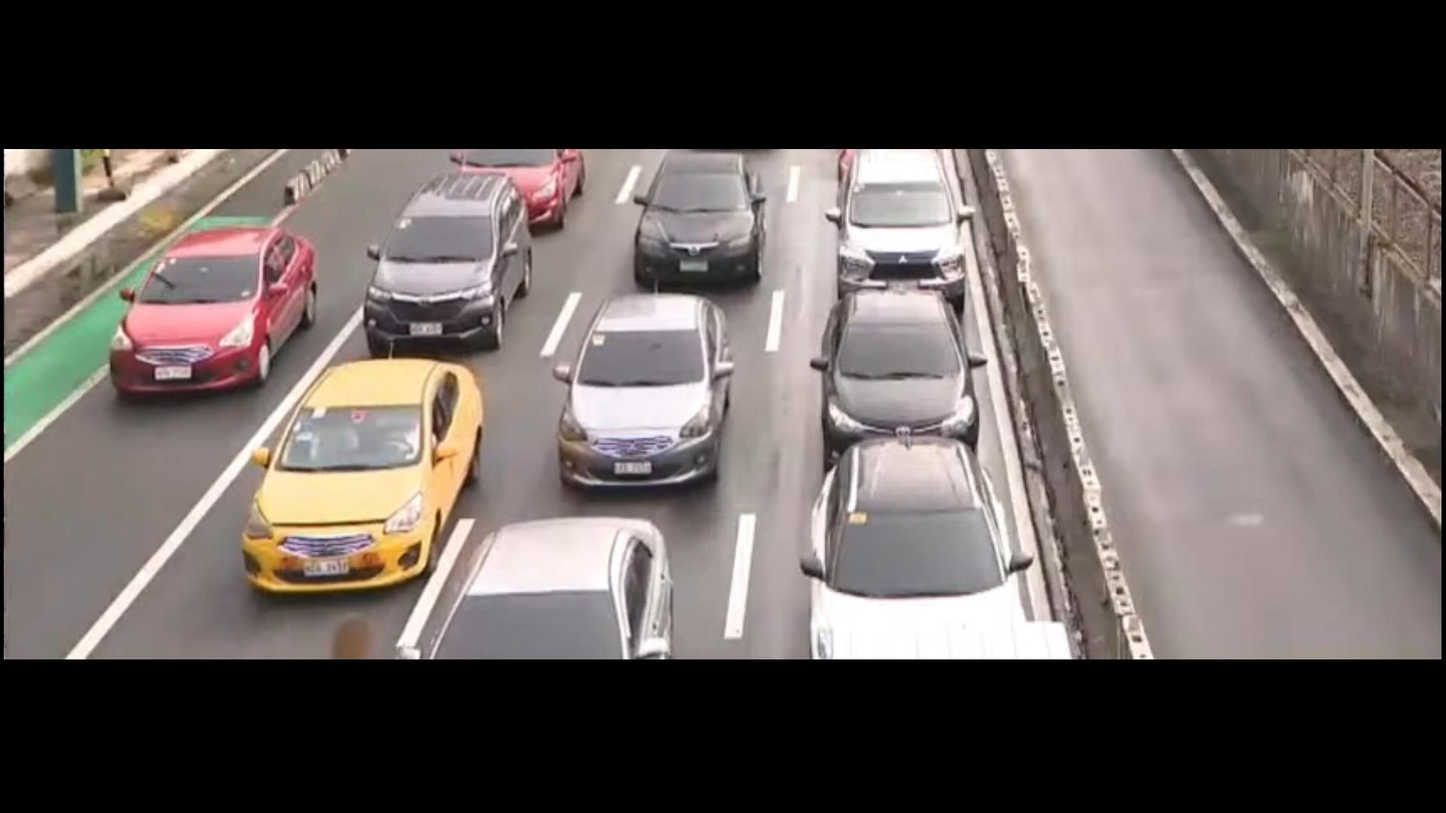SUV: (804, 422, 1051, 667), (350, 158, 561, 357), (620, 157, 772, 295)
Sedan: (231, 345, 496, 615), (525, 277, 776, 500), (400, 497, 701, 658), (99, 206, 324, 417), (801, 268, 1005, 479)
